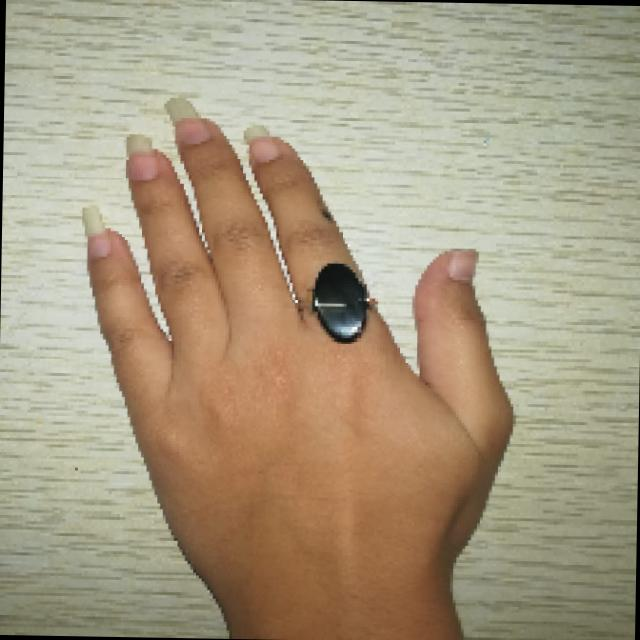Nail: (165, 96, 211, 144), (82, 204, 110, 258), (126, 134, 158, 180), (243, 125, 279, 162), (448, 248, 477, 281)
